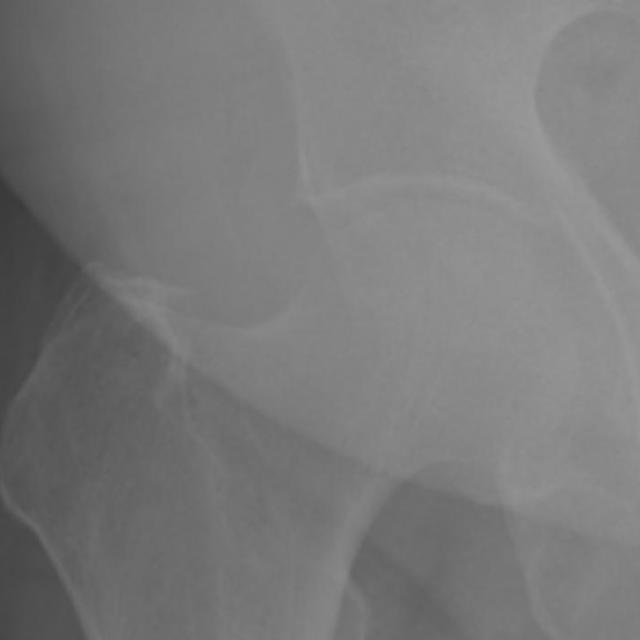Fitted_femural_head: (289, 204, 432, 289)
